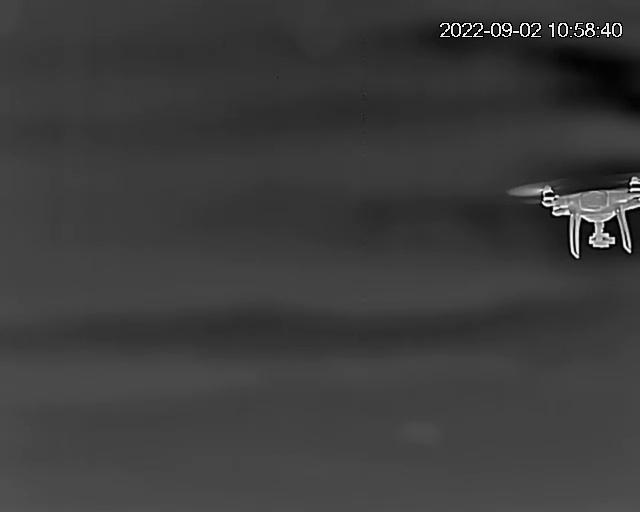DJI-Phantom: (510, 175, 640, 261)
